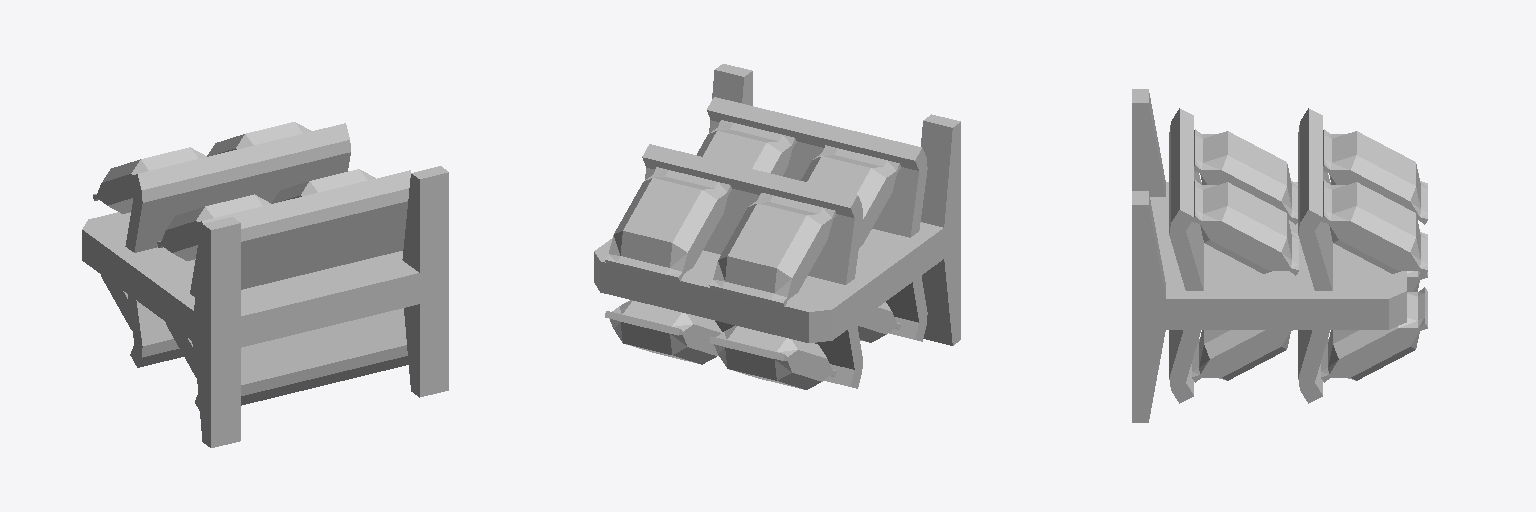
The model's file is shelf-bags_w2_p350@object.obj.
The picture shows the model from 3 angles: view 1: azimuth 30°, elevation 25°; view 2: azimuth 150°, elevation 25°; view 3: azimuth 270°, elevation 25°; orthographic projection.
Parts seen in each view (by area): view 1: shelf-bags; view 2: shelf-bags; view 3: shelf-bags.
Part boxes in pixels (bbox=[...]): shelf-bags: bbox=[82, 122, 448, 447]; shelf-bags: bbox=[594, 64, 960, 389]; shelf-bags: bbox=[1132, 89, 1427, 422].
Size of the model in its own units: 0.8 by 0.7 by 0.8634.